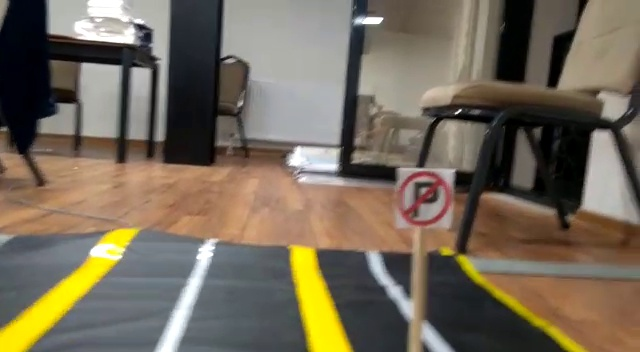park_yapilmaz: (396, 168, 453, 226)
